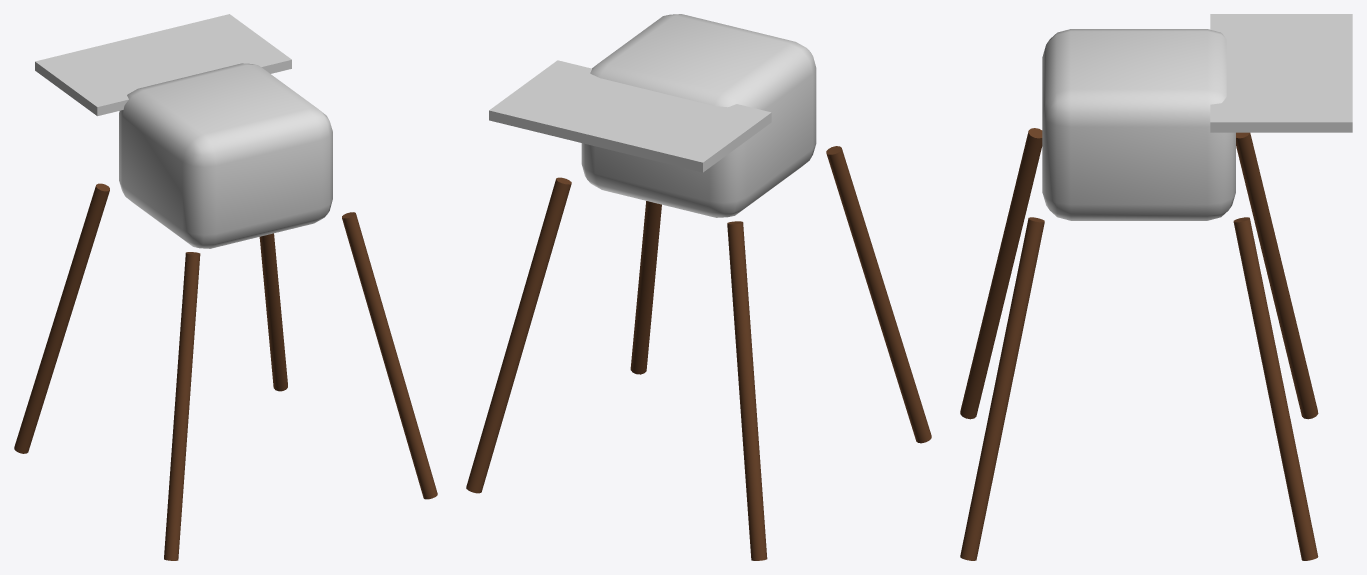
The model's file is home.child.highchair.glb.
3 renders of one model, left to right at view 1: azimuth 30°, elevation 25°; view 2: azimuth 150°, elevation 25°; view 3: azimuth 270°, elevation 25°, orthographic. The views are drawn at different scales.
Parts seen in each view (by area): view 1: main__plastic_white, main__hardwood; view 2: main__plastic_white, main__hardwood; view 3: main__plastic_white, main__hardwood.
Part boxes in pixels (box(x1,y1,x2,y2)): main__plastic_white: box(35, 14, 332, 248); main__hardwood: box(14, 183, 437, 560); main__plastic_white: box(489, 14, 816, 217); main__hardwood: box(466, 146, 931, 560); main__plastic_white: box(1042, 14, 1352, 220); main__hardwood: box(960, 128, 1318, 560).
Size of the model in its own units: 0.6286 by 0.8291 by 0.6893.
